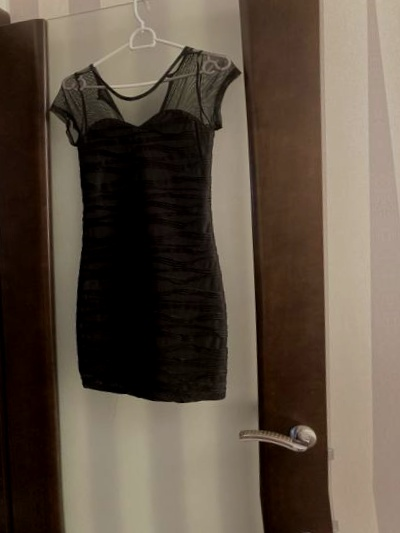Dress: (16, 41, 267, 425)
